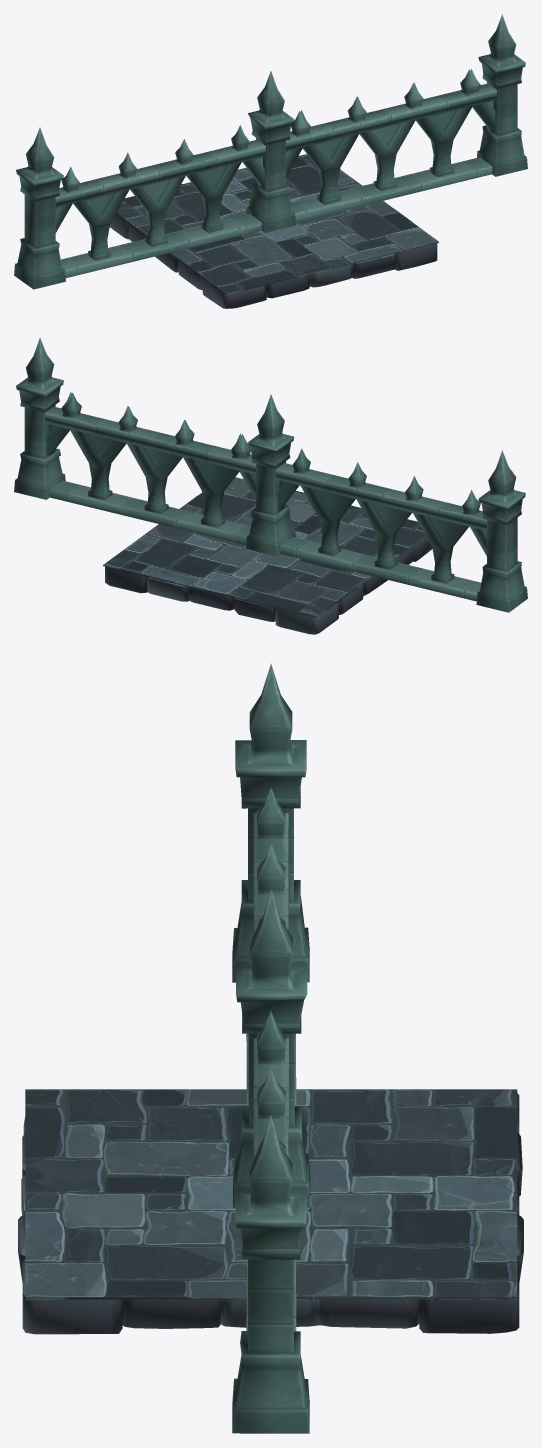
Rendered from BridgeObj.fbx.
3 renders of one model, top to bottom at view 1: azimuth 30°, elevation 25°; view 2: azimuth 150°, elevation 25°; view 3: azimuth 270°, elevation 25°, orthographic. The views are drawn at different scales.
Parts seen in each view (by area): view 1: SM_Railing, SM_Floor_Ceiling, SM_Railing_Single_01; view 2: SM_Railing, SM_Floor_Ceiling, SM_Railing_Single_01; view 3: SM_Floor_Ceiling, SM_Railing.
Boxes of the visible parts, box(x1,y1,x2,y2) form: SM_Railing: box(14, 14, 527, 289); SM_Floor_Ceiling: box(109, 154, 438, 308); SM_Railing_Single_01: box(286, 69, 495, 221); SM_Railing: box(14, 338, 527, 612); SM_Floor_Ceiling: box(103, 477, 432, 634); SM_Railing_Single_01: box(45, 392, 255, 527); SM_Floor_Ceiling: box(18, 1089, 523, 1334); SM_Railing: box(232, 663, 310, 1433).
Size of the model in its own units: 1162 by 387 by 514.
